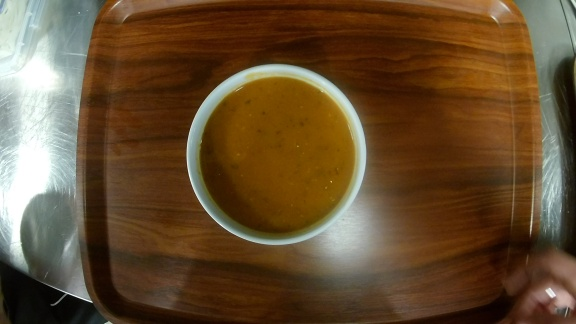ezogelin: (183, 61, 369, 247)
